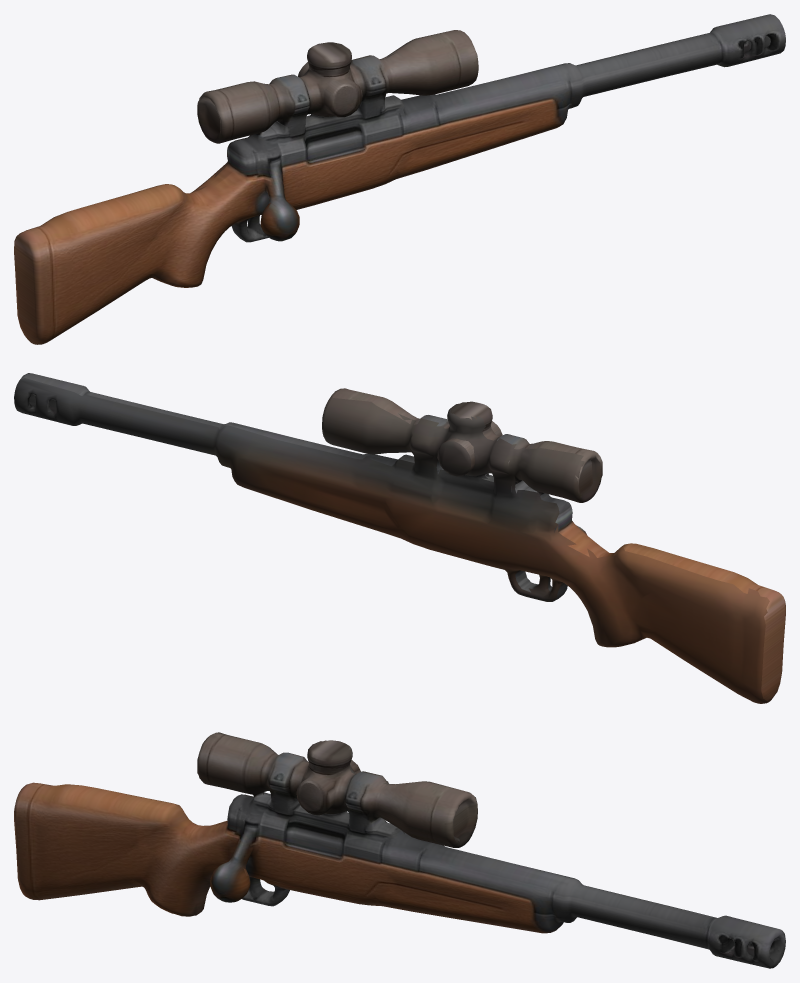
The model's file is sniper_rifle.glb.
3 renders of one model, top to bottom at view 1: azimuth 30°, elevation 25°; view 2: azimuth 150°, elevation 25°; view 3: azimuth 330°, elevation 25°, orthographic.
Visible parts, largest first — view 1: sniper_rifle; view 2: sniper_rifle; view 3: sniper_rifle.
Part boxes in pixels (x1,y1,x2,y2): sniper_rifle: (14, 14, 785, 344); sniper_rifle: (14, 373, 785, 703); sniper_rifle: (14, 732, 785, 968).
Bounding box in the file's own units: 1.15 × 0.3231 × 0.1377.
Materials: 1 (1 with a texture image).
